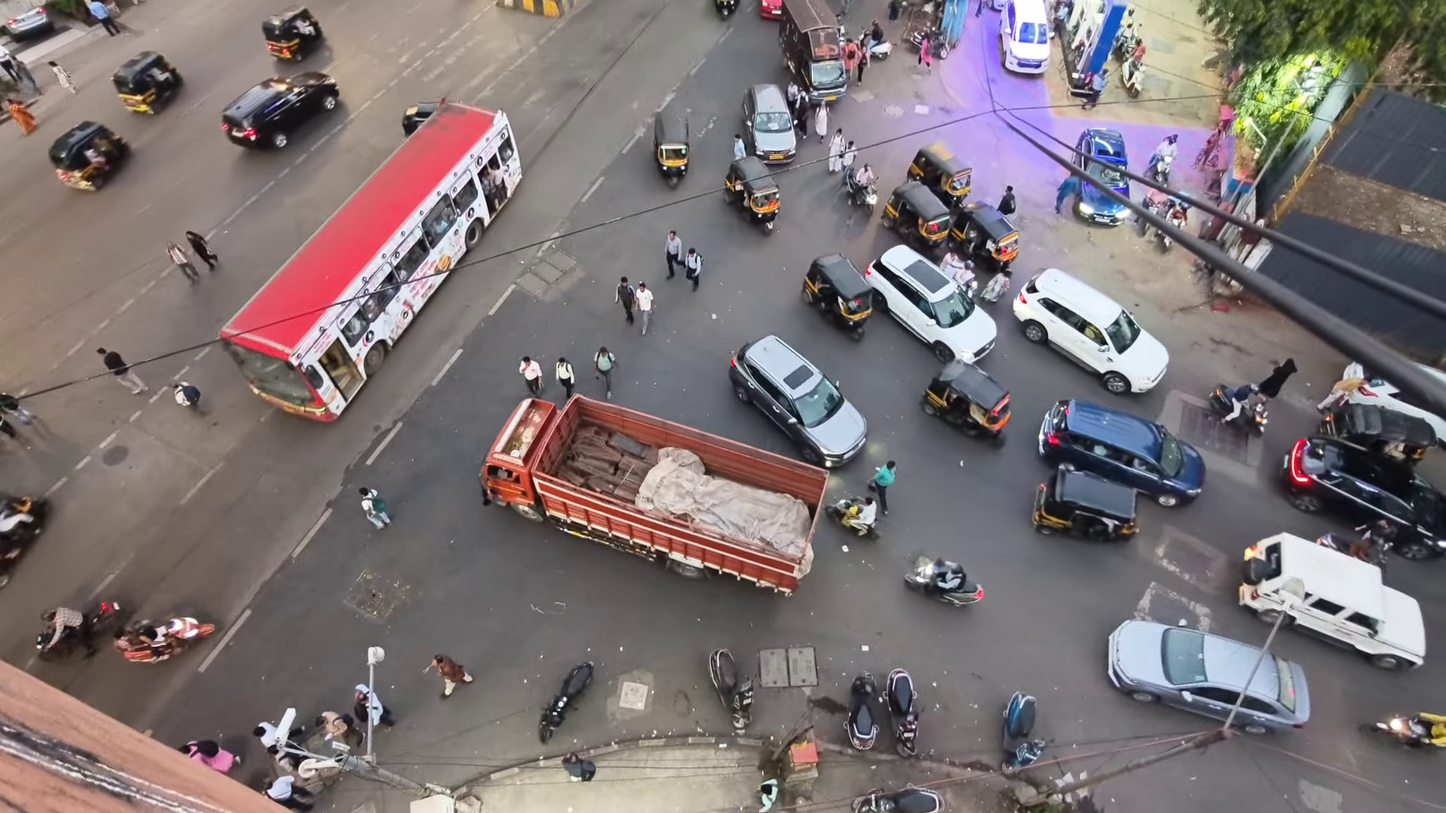driving: (220, 102, 520, 420), (481, 396, 828, 592), (1238, 534, 1426, 668), (1107, 620, 1310, 734), (1282, 437, 1445, 559), (1013, 269, 1168, 394), (728, 334, 866, 467), (1038, 400, 1205, 507), (865, 246, 996, 361), (221, 72, 339, 148), (1343, 362, 1445, 444), (1031, 464, 1137, 540), (1316, 402, 1440, 464), (921, 359, 1011, 442), (778, 0, 848, 103), (802, 253, 873, 340), (48, 120, 130, 190), (35, 601, 126, 660), (1075, 127, 1129, 226), (880, 181, 953, 251), (948, 201, 1018, 272), (538, 661, 595, 744), (113, 617, 216, 662), (111, 50, 183, 114), (0, 494, 49, 587), (723, 156, 780, 234), (906, 142, 972, 208), (743, 84, 797, 163), (904, 556, 982, 605), (708, 649, 754, 731), (999, 0, 1050, 73), (1002, 691, 1047, 769), (262, 5, 324, 61), (1207, 383, 1268, 435), (885, 668, 920, 758), (1363, 712, 1445, 748), (654, 109, 689, 186), (845, 671, 879, 750), (824, 496, 879, 540), (853, 787, 944, 812), (3, 5, 55, 41), (401, 99, 444, 136), (844, 168, 877, 215), (759, 0, 783, 20), (714, 0, 737, 20)
walking: (42, 607, 96, 657), (96, 348, 146, 394), (424, 655, 473, 698), (178, 740, 239, 773), (315, 711, 364, 749), (265, 775, 313, 811), (354, 684, 394, 727), (1258, 358, 1298, 399), (1316, 377, 1364, 411), (869, 460, 895, 513), (167, 242, 199, 284), (358, 486, 390, 528), (185, 230, 218, 269), (593, 346, 615, 400), (87, 0, 120, 35), (5, 98, 35, 135), (0, 393, 34, 424), (1082, 68, 1108, 108), (47, 60, 77, 94), (1054, 175, 1080, 214), (615, 276, 636, 324), (561, 753, 595, 781), (636, 282, 653, 335), (519, 356, 542, 395), (555, 357, 575, 399), (665, 230, 682, 278), (172, 382, 200, 411), (684, 247, 702, 291), (793, 93, 811, 137), (0, 45, 20, 83), (828, 128, 845, 172), (844, 39, 862, 75), (840, 141, 856, 181), (813, 102, 828, 144), (996, 185, 1015, 215), (918, 32, 931, 72), (856, 44, 869, 83), (786, 79, 801, 111), (0, 414, 18, 440), (732, 134, 746, 160), (887, 0, 901, 21), (975, 0, 986, 17)
